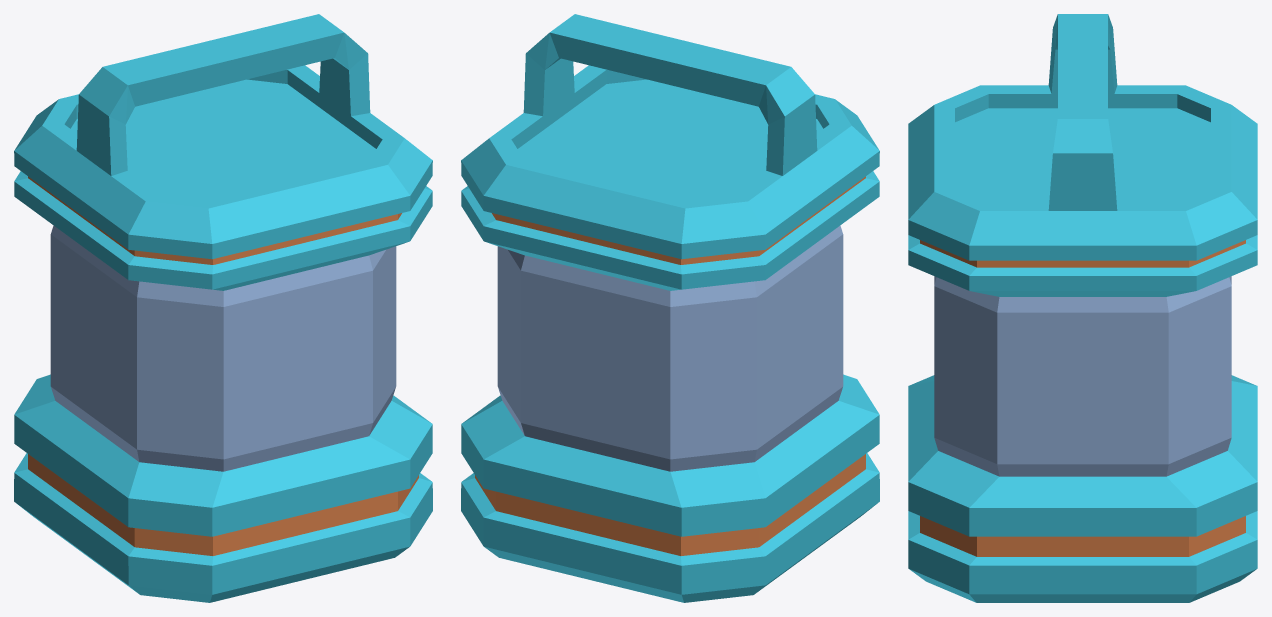
The model's file is Lamp.fbx.
3 renders of one model, left to right at view 1: azimuth 30°, elevation 25°; view 2: azimuth 150°, elevation 25°; view 3: azimuth 270°, elevation 25°, orthographic.
Visible parts, largest first — view 1: Cube.002; view 2: Cube.002; view 3: Cube.002.
Part boxes in pixels (<box>): Cube.002: <box>14,14,432,602</box>; Cube.002: <box>461,14,879,602</box>; Cube.002: <box>908,14,1257,602</box>.
Size of the model in its own units: 26.91 by 39.96 by 26.91.
